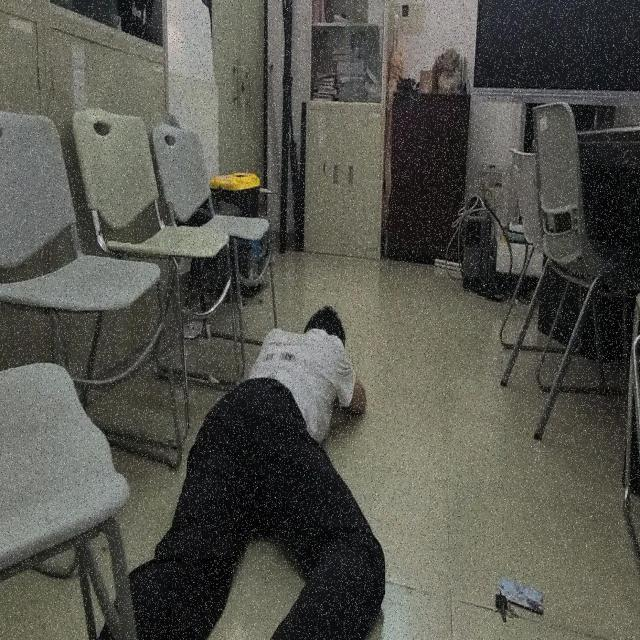fall: (90, 300, 387, 640)
